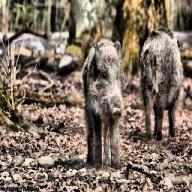boar: (80, 38, 124, 169), (139, 26, 185, 140)
